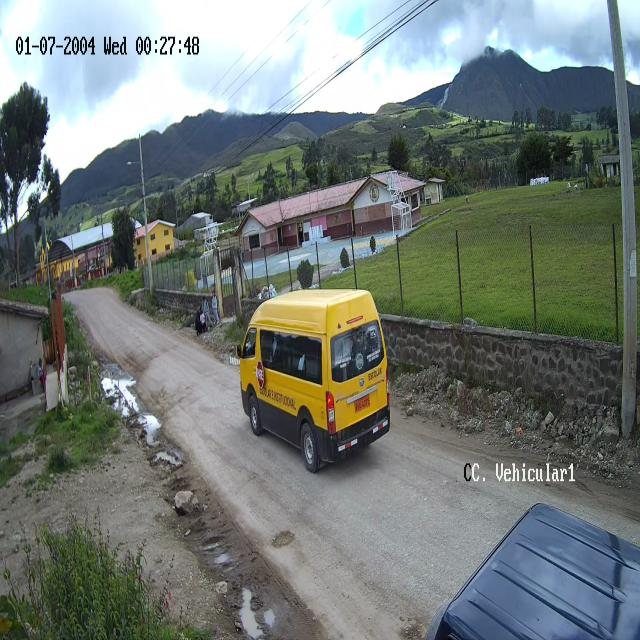BUS: (238, 289, 390, 472)
